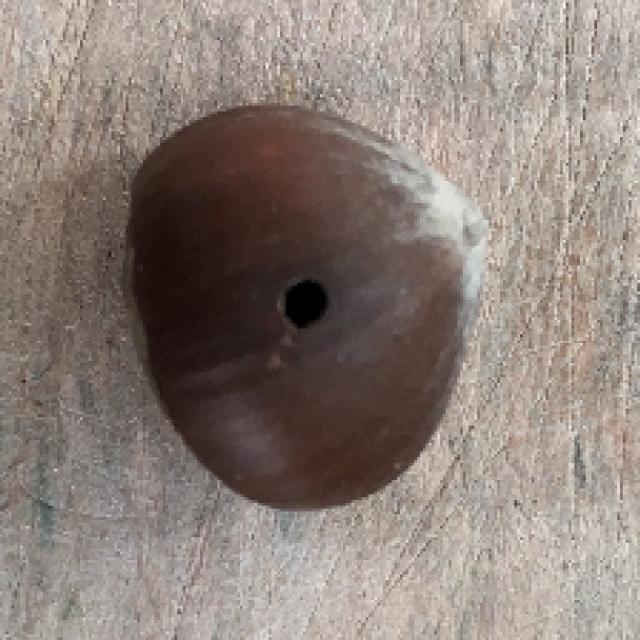damagedHazelnut: (109, 91, 507, 532)
